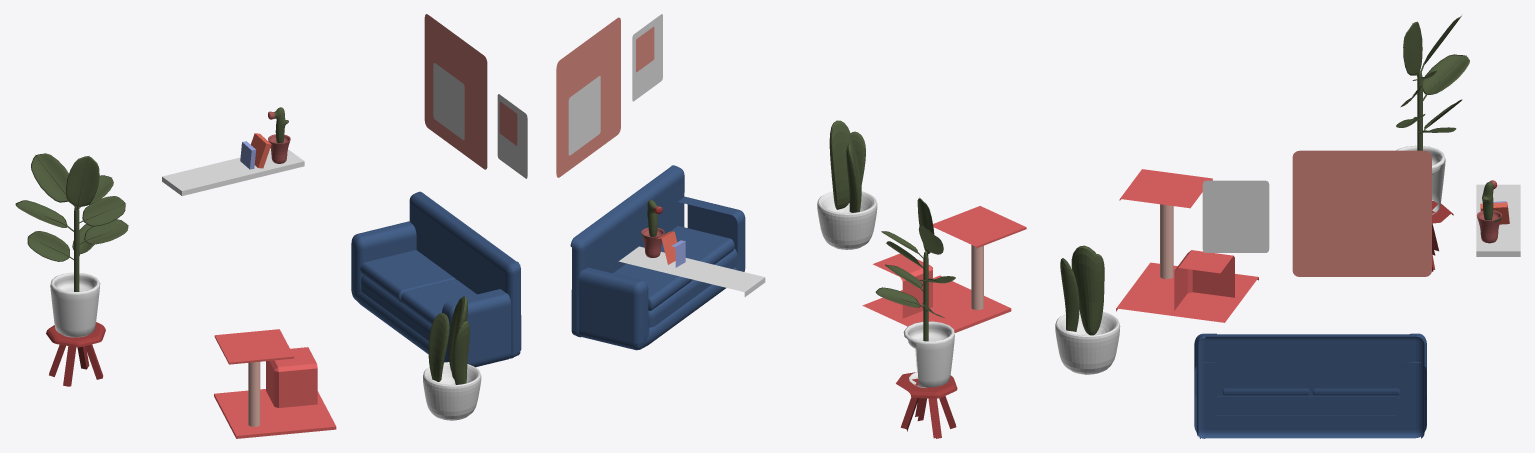
Rendered from elements.glb.
The picture shows the model from 3 angles, left to right: view 1: azimuth 30°, elevation 25°; view 2: azimuth 150°, elevation 25°; view 3: azimuth 270°, elevation 25°; orthographic projection. The views are drawn at different scales.
Visible parts, largest first — view 1: Cube.013, RamasMerge, Cube.014, Plane.002, Cylinder.002, Cube.015, Cube.002, Maceta, Cube.003, Cube.006, Cube.001, Plane.003 (+5 smaller); view 2: Cube.013, Cube.014, Plane.002, Cylinder.002, Cube.002, Cube.015, RamasMerge, Maceta, Cube.003, Cube.001, Plane.003, Plane.004 (+5 smaller); view 3: Cube.014, Plane.002, Cylinder.002, Plane.004, Cube.002, RamasMerge, Cube.006, Cube.001, Cube.003, Cube.015, Cylinder, Cube.013 (+2 smaller).
Boxes of the visible parts, bbox=[...] form: Cube.013: bbox=[351, 221, 510, 367]; RamasMerge: bbox=[15, 153, 128, 291]; Cube.014: bbox=[409, 191, 521, 358]; Plane.002: bbox=[424, 14, 487, 169]; Cylinder.002: bbox=[423, 296, 481, 420]; Cube.015: bbox=[360, 250, 476, 325]; Cube.002: bbox=[214, 389, 336, 438]; Maceta: bbox=[50, 272, 100, 337]; Cube.003: bbox=[162, 149, 304, 195]; Cube.006: bbox=[266, 347, 317, 407]; Cube.001: bbox=[214, 329, 294, 364]; Plane.003: bbox=[433, 63, 464, 140]; Cube.013: bbox=[578, 196, 745, 350]; Cube.014: bbox=[570, 165, 684, 337]; Plane.002: bbox=[556, 17, 620, 177]; Cylinder.002: bbox=[817, 120, 877, 249]; Cube.002: bbox=[862, 275, 1011, 332]; Cube.015: bbox=[612, 226, 734, 310]; RamasMerge: bbox=[875, 198, 955, 341]; Maceta: bbox=[903, 321, 954, 388]; Cube.003: bbox=[618, 246, 765, 296]; Cube.001: bbox=[933, 206, 1026, 248]; Plane.003: bbox=[568, 76, 600, 155]; Plane.004: bbox=[632, 14, 662, 101]; Cube.014: bbox=[1196, 334, 1424, 438]; Plane.002: bbox=[1292, 150, 1431, 276]; Cylinder.002: bbox=[1055, 245, 1120, 374]; Plane.004: bbox=[1202, 180, 1269, 252]; Cube.002: bbox=[1116, 262, 1258, 322]; RamasMerge: bbox=[1396, 14, 1469, 150]; Cube.006: bbox=[1174, 250, 1234, 310]; Cube.001: bbox=[1119, 169, 1212, 208]; Cube.003: bbox=[1476, 184, 1520, 256]; Cube.015: bbox=[1223, 388, 1399, 395]; Cylinder: bbox=[1160, 204, 1173, 279]; Cube.013: bbox=[1194, 333, 1426, 431].
Size of the model in its own units: 2.49 by 1.64 by 2.27.
